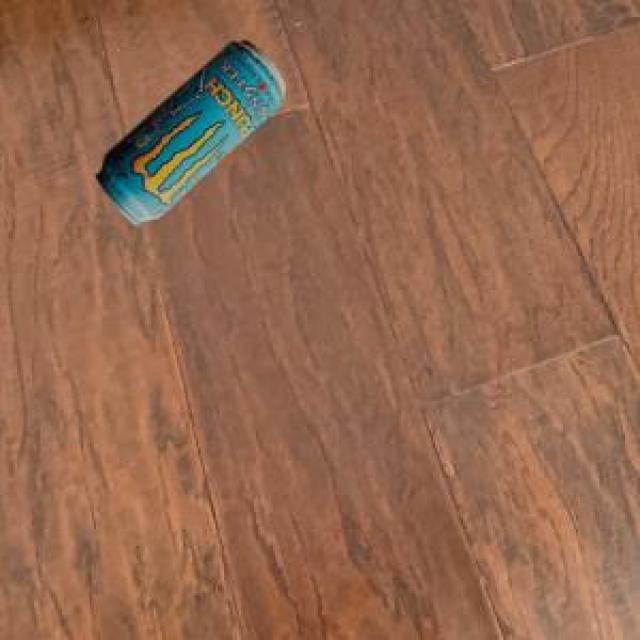Can: (93, 37, 283, 223)
